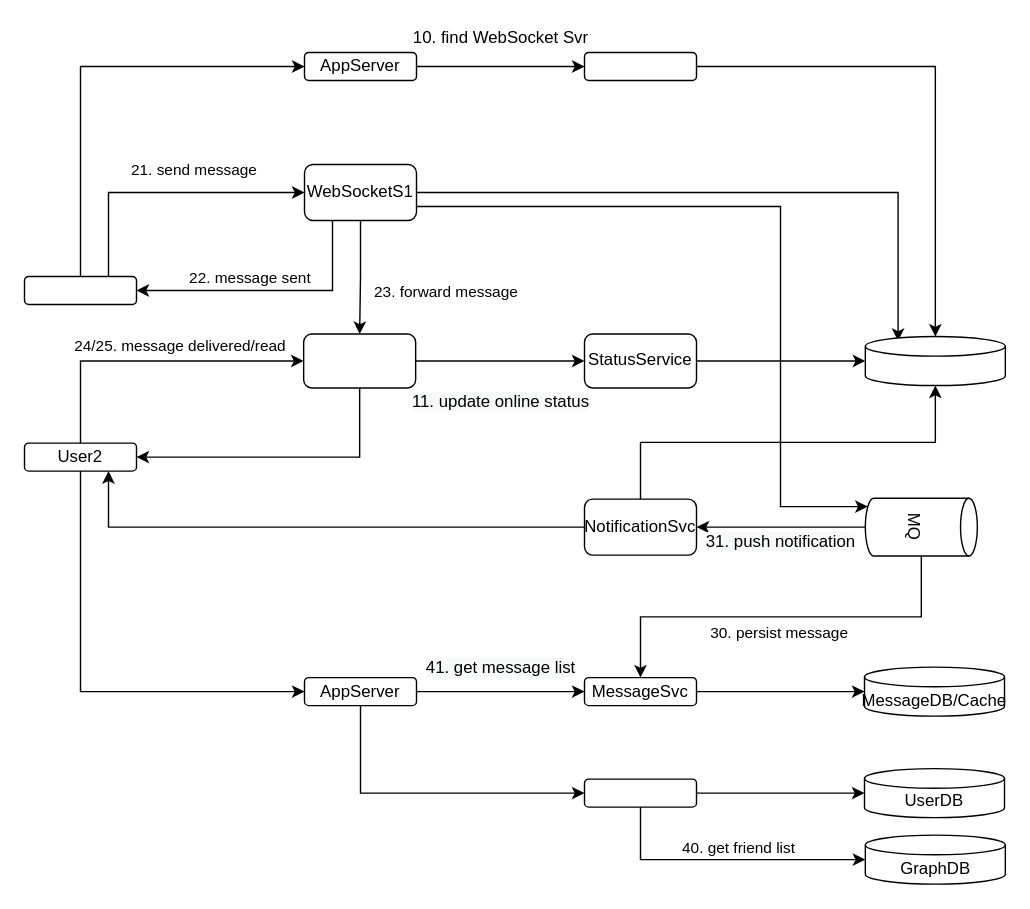
Some shapes in this 1030 by 909 pixel diagram are drawn without their labels. Each missing label, with the centre of its shape:
"DiscoverySvc" goes at point 639,65.
"StatusDB/Cache" goes at point 934,360.
"User1" goes at point 79,289.
"UserSvc" goes at point 639,792.
"WebSocketS2" goes at point 359,360.
